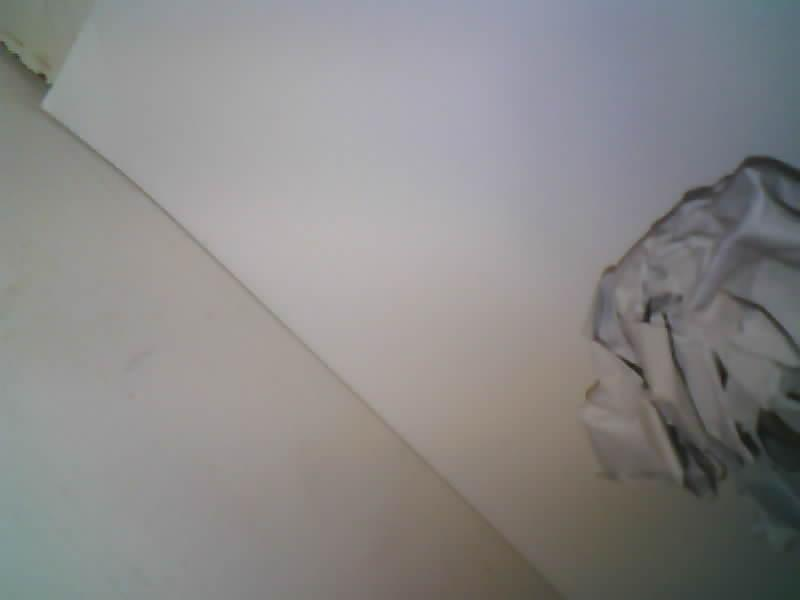biodegradable: (583, 158, 799, 546)
